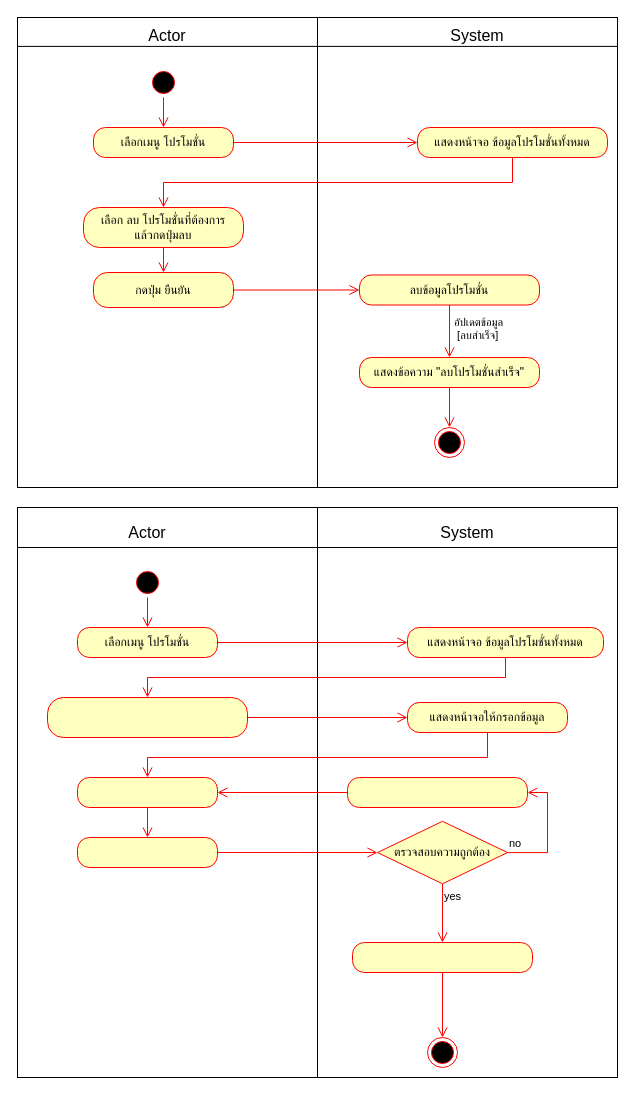
This 636x1096 diagram has some shape labels left out. Here are the shapes that lost their labels. From the top down, the centre of each, then its label:
point 147,717: เลือก แก้ไข โปรโมชั่นที่ต้องการ แล้วกดปุ่ม แก้ไข
point 147,792: ป้อนข้อมูล
point 437,792: แสดงข้อความ "กรุณากรอกข้อมูลให้ครบถ้วน"
point 147,852: กดปุ่ม อัปเดต
point 442,957: แสดงข้อความ "บันทึกข้อมูลสำเร็จ"
